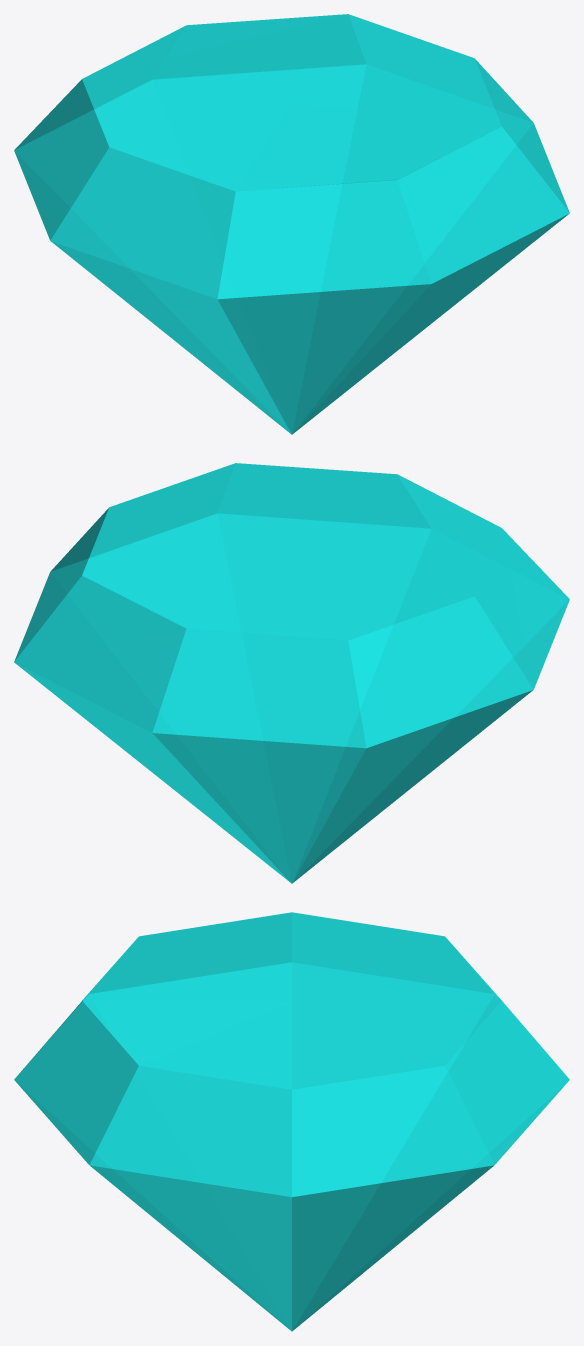
File: Diamond 1.fbx
3 views of the same model, one above another, from view 1: azimuth 30°, elevation 25°; view 2: azimuth 150°, elevation 25°; view 3: azimuth 270°, elevation 25° (orthographic).
Parts seen in each view (by area): view 1: pPyramid1; view 2: pPyramid1; view 3: pPyramid1.
Part boxes in pixels (bbox=[...]): pPyramid1: bbox=[14, 14, 569, 434]; pPyramid1: bbox=[14, 463, 569, 883]; pPyramid1: bbox=[14, 912, 569, 1331].
Size of the model in its own units: 12.03 by 7.9 by 12.03.
